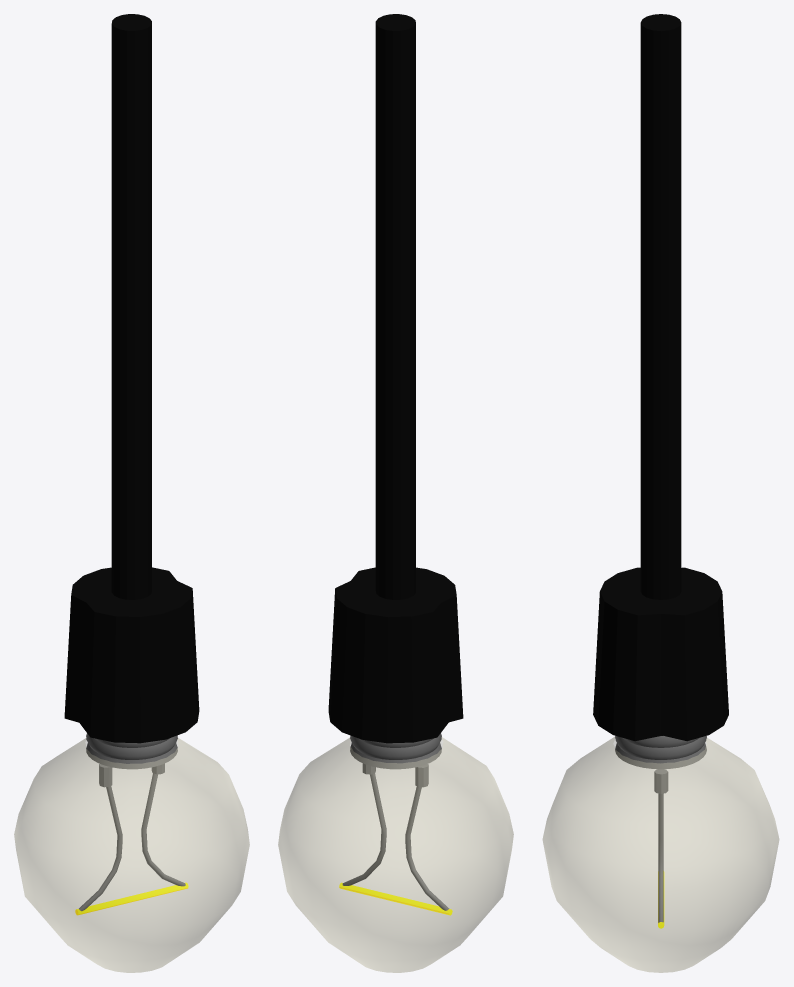
File: HangingLightbulb.fbx
3 renders of one model, left to right at view 1: azimuth 30°, elevation 25°; view 2: azimuth 150°, elevation 25°; view 3: azimuth 270°, elevation 25°, orthographic.
Visible parts, largest first — view 1: Sphere.002, Cable, Filament; view 2: Sphere.002, Cable, Filament; view 3: Sphere.002, Cable, Filament.
Boxes of the visible parts, left/top/right/bottom form: Sphere.002: left=14, top=567, right=249, bottom=972; Cable: left=111, top=14, right=151, bottom=599; Filament: left=75, top=763, right=188, bottom=915; Sphere.002: left=278, top=567, right=513, bottom=972; Cable: left=375, top=14, right=415, bottom=599; Filament: left=339, top=763, right=452, bottom=915; Sphere.002: left=542, top=567, right=779, bottom=972; Cable: left=640, top=14, right=681, bottom=599; Filament: left=654, top=769, right=668, bottom=928.
Bounding box in the file's own units: 15.49 × 67.81 × 15.49.
